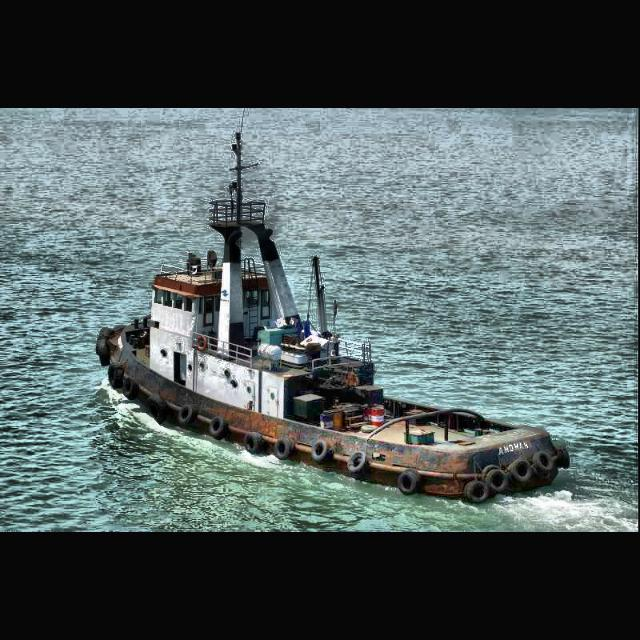tug: (95, 195, 573, 505)
